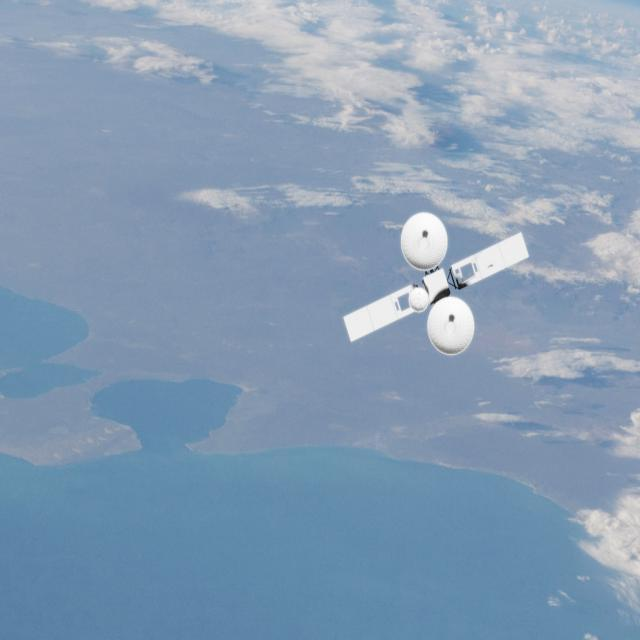satellite: (320, 202, 540, 367)
